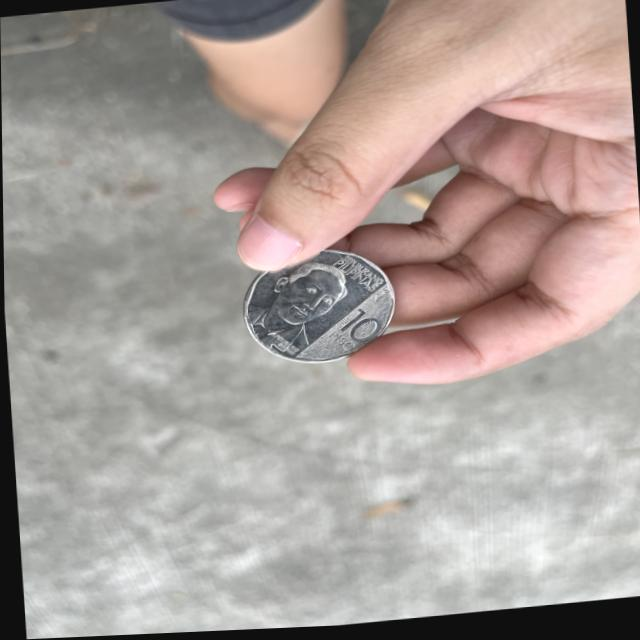10_New_Front: (324, 305, 389, 366)
